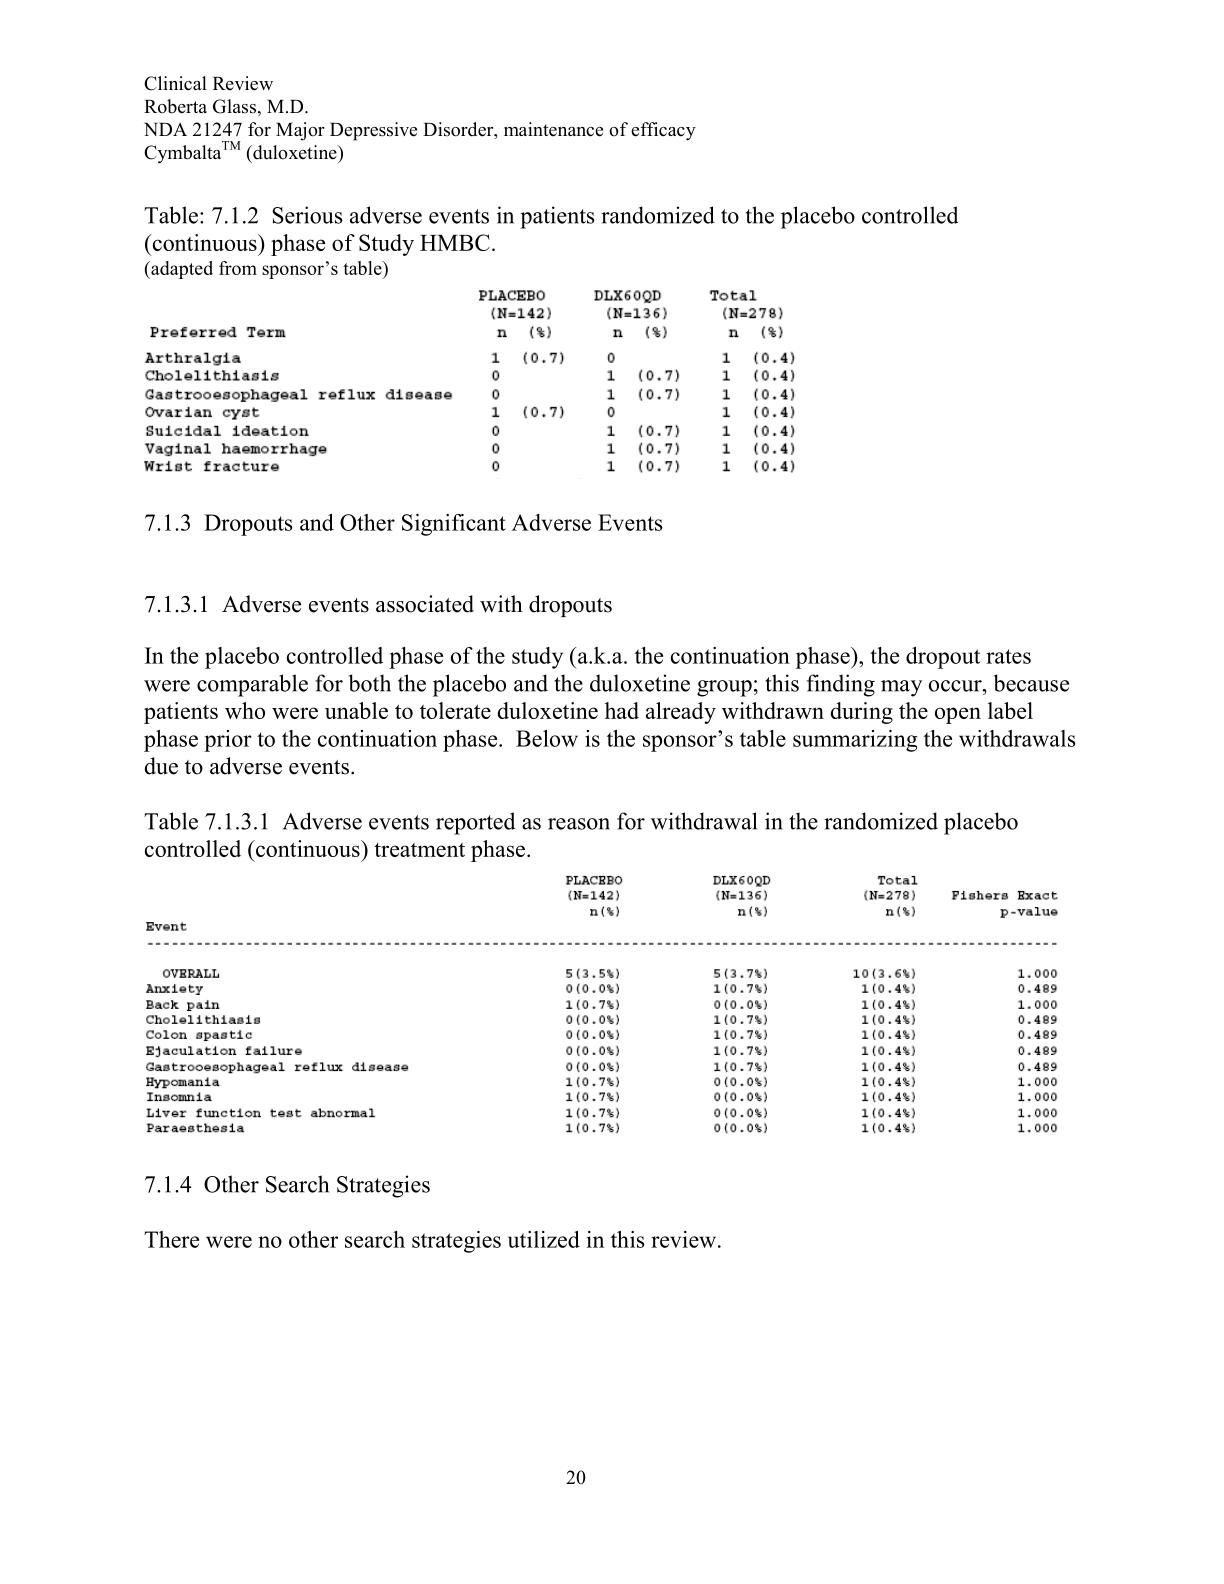nolines: (141, 285, 800, 477)
partial_lined: (141, 872, 1065, 1137)
